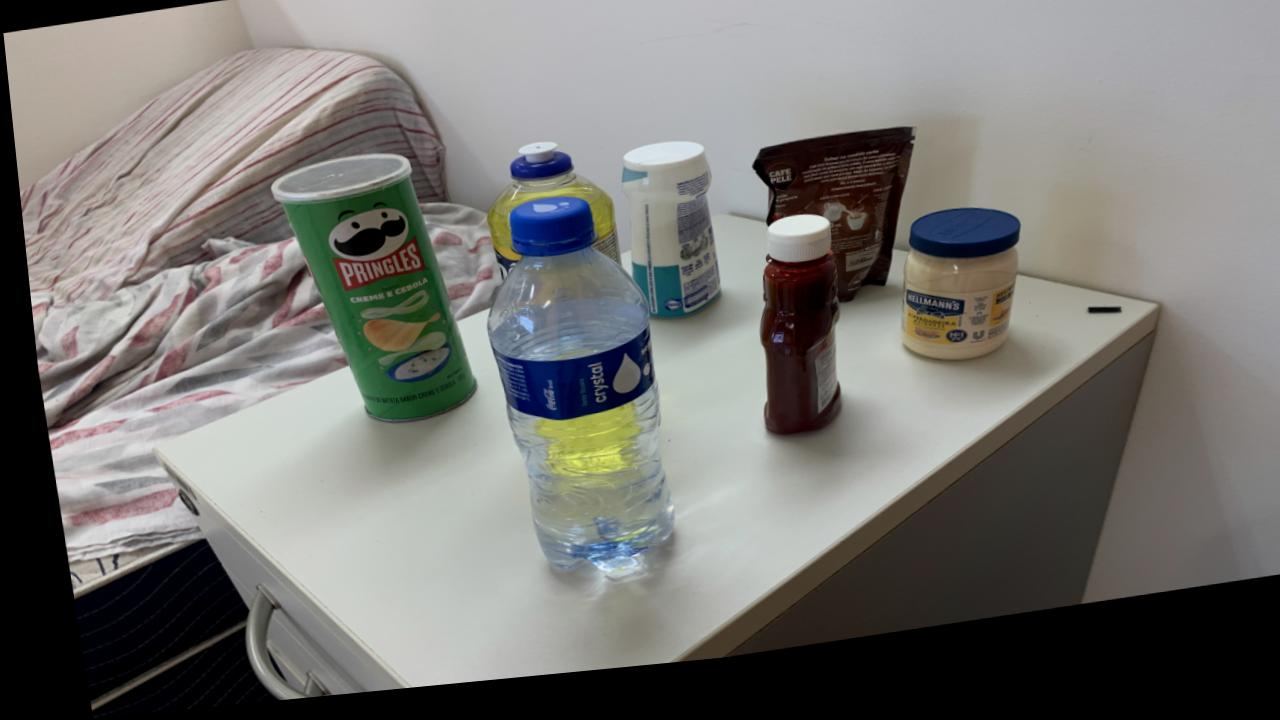Cleaner-Cleanup_Items: (615, 155, 713, 331)
Coffee-Pantry_Items: (747, 145, 911, 319)
Detergent-Cleanup_Items: (481, 152, 614, 286)
Ketchup-Pantry_Items: (750, 230, 831, 450)
Mayonnaise-Pantry_Items: (892, 227, 1013, 379)
Pringles-Snacks: (266, 160, 468, 429)
Water_Bottle-Drinks: (478, 207, 661, 588)
